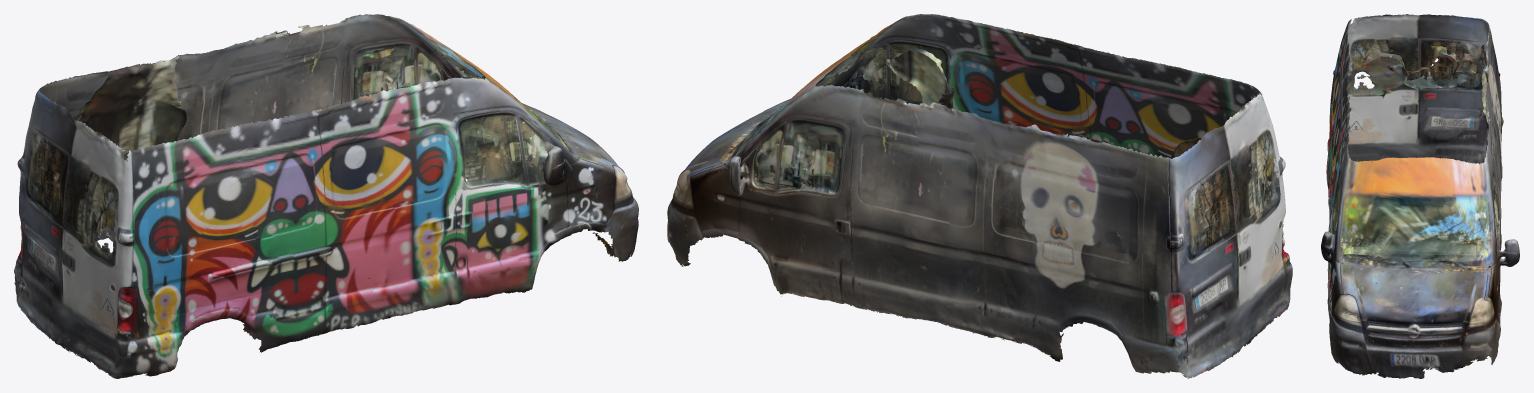
Rendered from van-015.glb.
The picture shows the model from 3 angles, left to right: view 1: azimuth 30°, elevation 25°; view 2: azimuth 150°, elevation 25°; view 3: azimuth 270°, elevation 25°; orthographic projection. The views are drawn at different scales.
Visible parts, largest first — view 1: No__15; view 2: No__15; view 3: No__15.
Boxes of the visible parts, bbox=[...] form: No__15: bbox=[14, 14, 638, 378]; No__15: bbox=[667, 14, 1292, 378]; No__15: bbox=[1321, 14, 1519, 378].
Size of the model in its own units: 5.38 by 2.19 by 2.25.
Materials: 1 (1 with a texture image).
